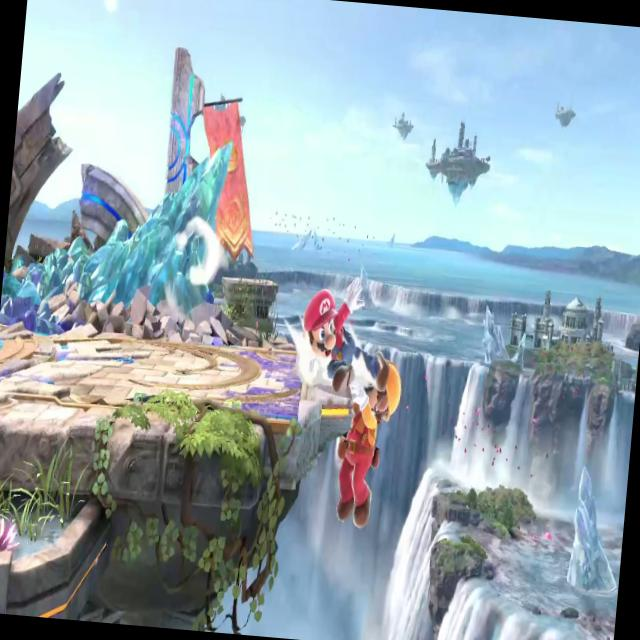Mario-DA: (292, 268, 402, 408)
Mario-LH: (331, 342, 408, 536)
